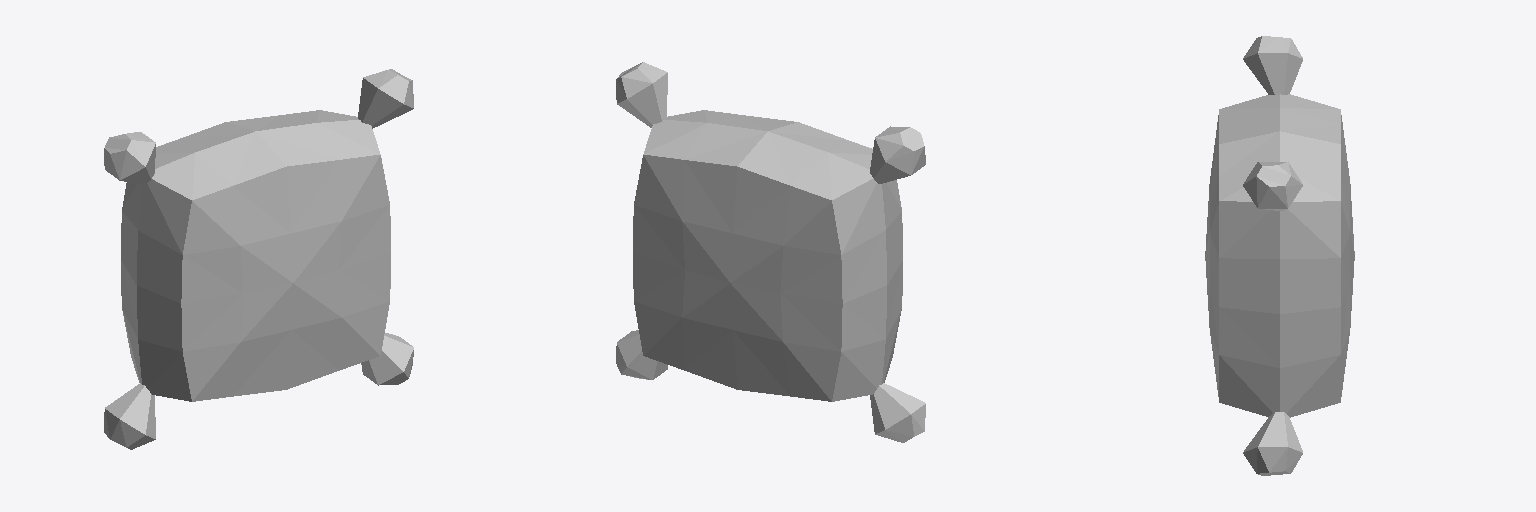
Rendered from pillow.obj.
The picture shows the model from 3 angles: view 1: azimuth 30°, elevation 25°; view 2: azimuth 150°, elevation 25°; view 3: azimuth 270°, elevation 25°; orthographic projection.
Parts seen in each view (by area): view 1: pillow; view 2: pillow; view 3: pillow.
Boxes of the visible parts, x1=… form: pillow: x1=104, y1=69, x2=413, y2=449; pillow: x1=616, y1=62, x2=925, y2=442; pillow: x1=1205, y1=36, x2=1354, y2=475.
Bounding box in the file's own units: 1.37 × 1.34 × 0.5852.